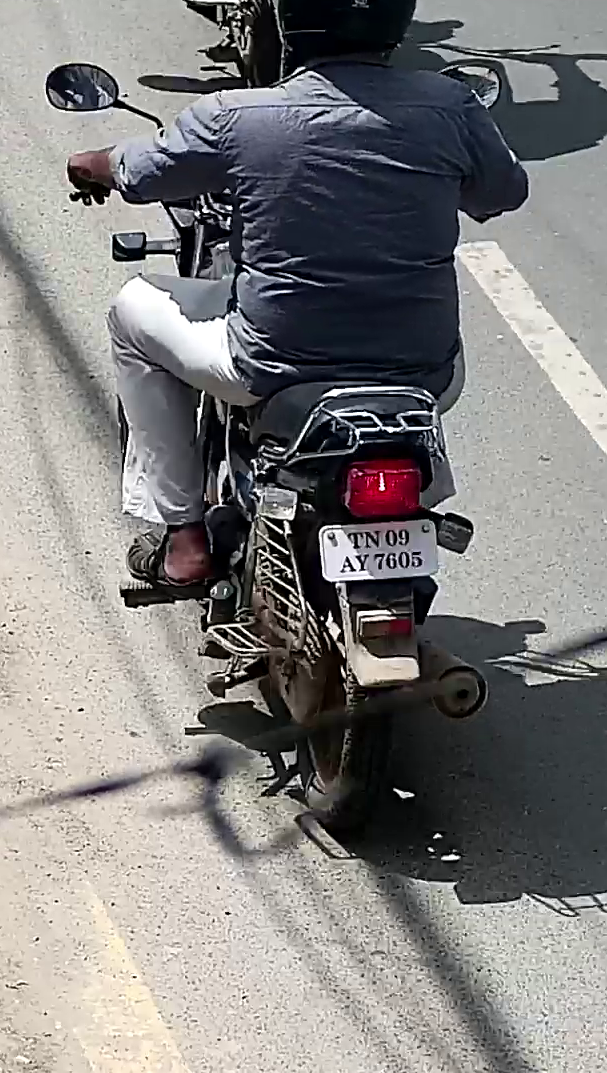0: (385, 529, 397, 547), (398, 551, 410, 569)
5: (410, 550, 423, 569)
6: (385, 552, 397, 570)
7: (374, 553, 385, 570)
9: (398, 529, 410, 546)
A: (339, 556, 355, 573)
N: (364, 530, 381, 548)
P16: (317, 518, 439, 584)
T: (347, 532, 363, 550)
Y: (356, 554, 369, 572)
